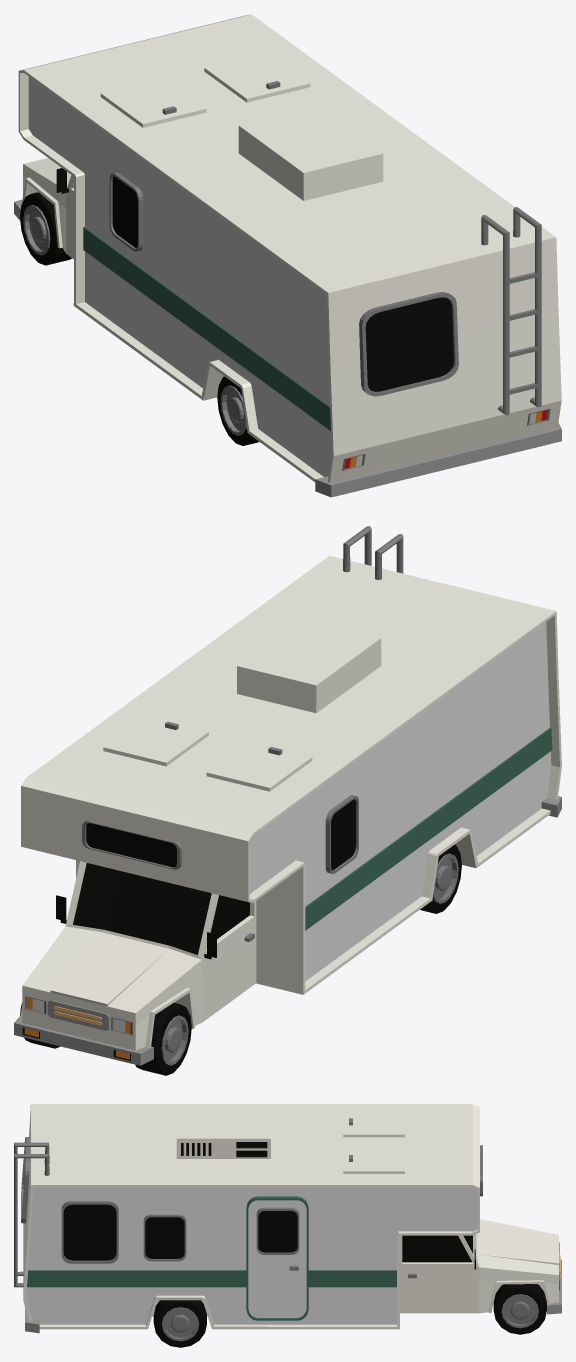
Rendered from trailer.fbx.
3 renders of one model, top to bottom at view 1: azimuth 30°, elevation 25°; view 2: azimuth 150°, elevation 25°; view 3: azimuth 270°, elevation 25°, orthographic. The views are drawn at different scales.
Parts seen in each view (by area): view 1: Cube; view 2: Cube; view 3: Cube.
Part boxes in pixels (box(x1,y1,x2,y2)): Cube: box(14, 14, 561, 497); Cube: box(14, 526, 561, 1075); Cube: box(14, 1104, 561, 1347).
Bounding box in the file's own units: 952 × 964 × 2573.
